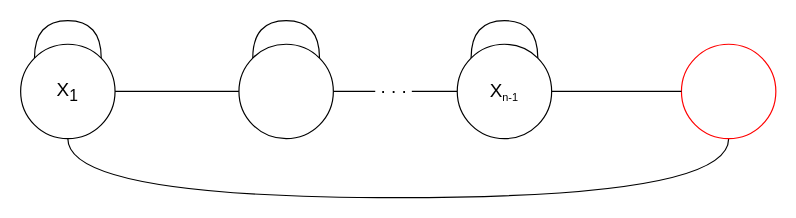
Some shapes in this 796 by 218 pixel diagram are drawn without their labels. Each missing label, with the box of its shape:
X 2: (238, 43, 333, 139)
X n: (680, 43, 776, 139)
